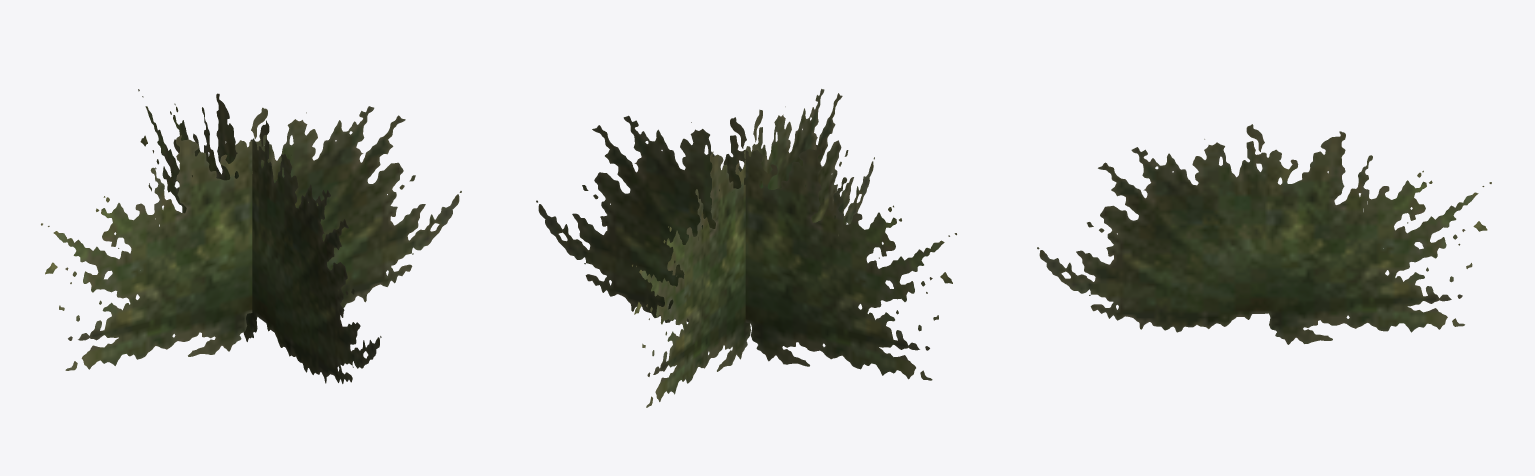
The model's file is shrb_arid_green_a3_l1.fbx.
The picture shows the model from 3 angles, left to right: view 1: azimuth 30°, elevation 25°; view 2: azimuth 150°, elevation 25°; view 3: azimuth 270°, elevation 25°; orthographic projection. The views are drawn at different scales.
Parts seen in each view (by area): view 1: mesh_node; view 2: mesh_node; view 3: mesh_node.
Boxes of the visible parts, box(x1,y1,x2,y2) form: mesh_node: box(41, 89, 461, 383); mesh_node: box(536, 89, 956, 407); mesh_node: box(1037, 124, 1491, 344).
Size of the model in its own units: 2.02 by 1.02 by 2.02.
Materials: 1 (1 with a texture image).
